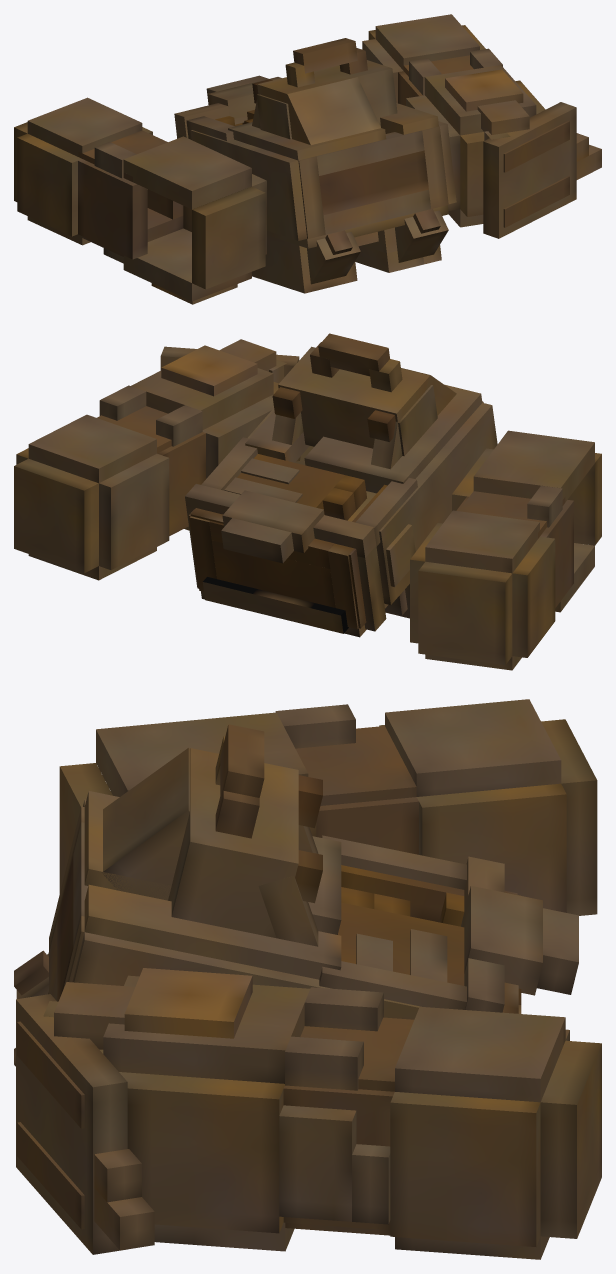
File: t45_chestplate_broken.obj
The picture shows the model from 3 angles, top to bottom: view 1: azimuth 30°, elevation 25°; view 2: azimuth 150°, elevation 25°; view 3: azimuth 270°, elevation 25°; orthographic projection. The views are drawn at different scales.
Parts seen in each view (by area): view 1: Body; view 2: Body; view 3: Body.
Part boxes in pixels (box(x1,y1,x2,y2)): Body: box(14, 14, 601, 304); Body: box(14, 333, 601, 670); Body: box(14, 699, 601, 1259).
Size of the model in its own units: 1.69 by 0.7512 by 0.9937.
